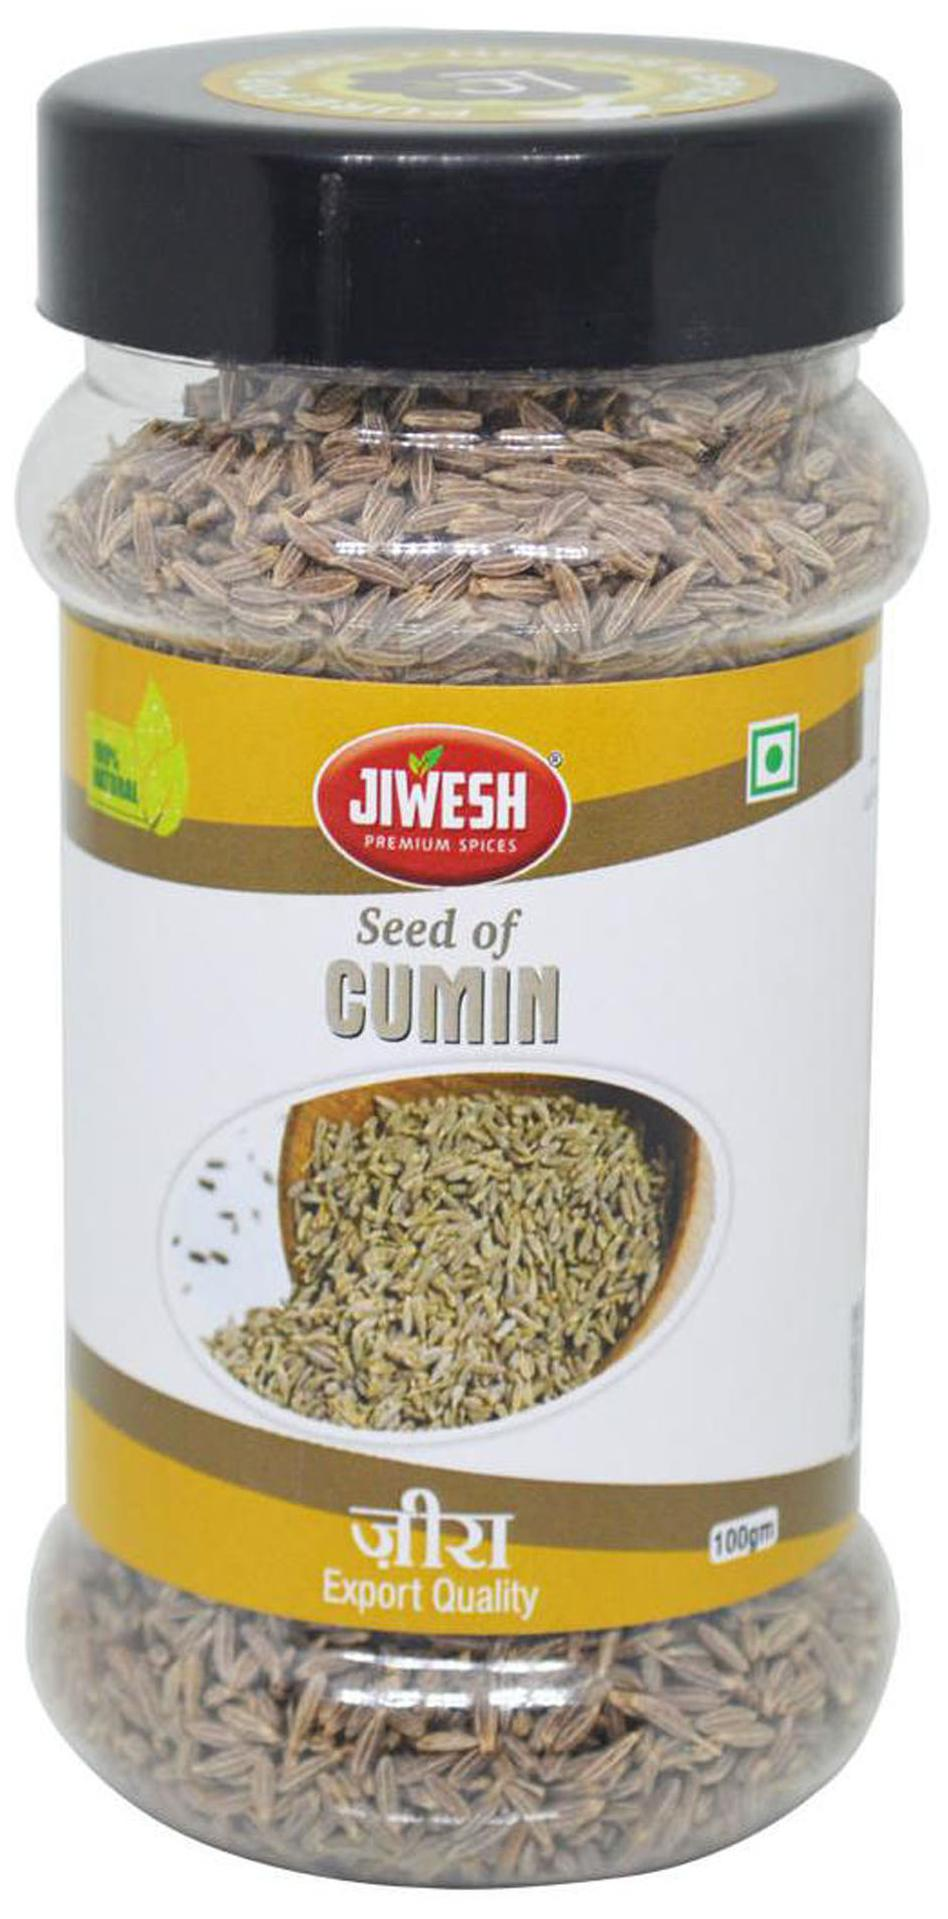JAR: (10, 16, 938, 1895)
